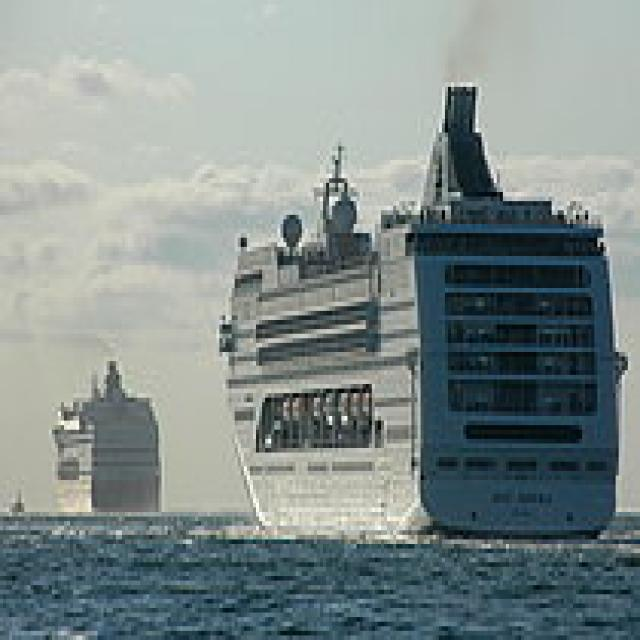Ship: (202, 70, 640, 555)
